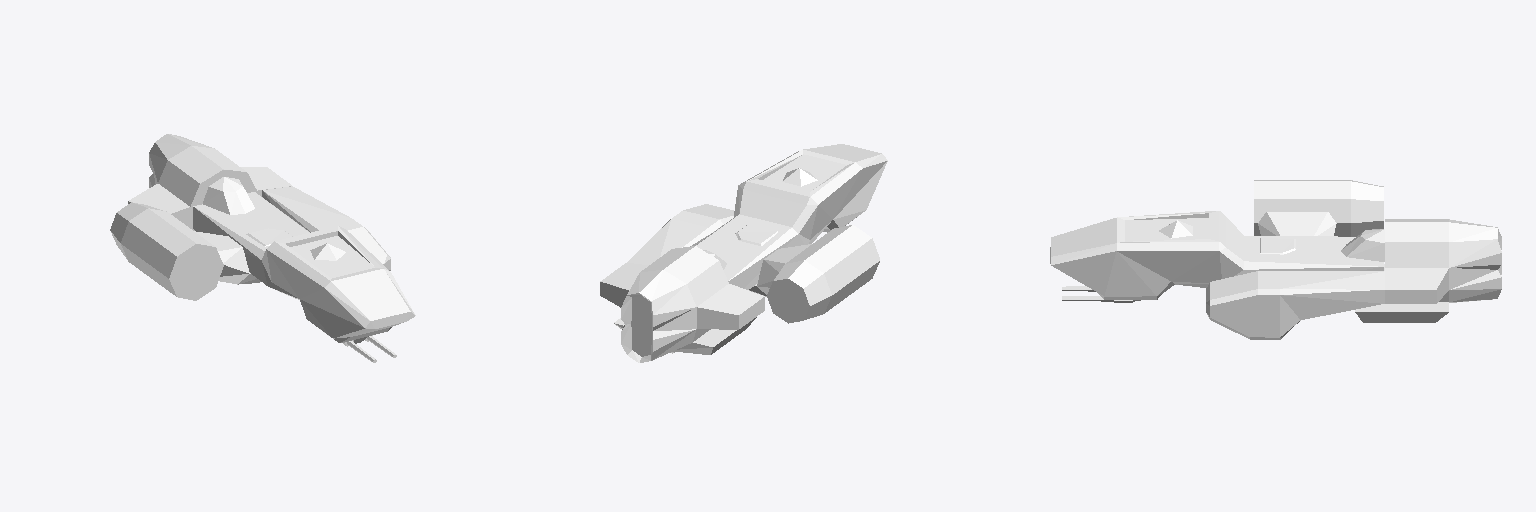
Rendered from bom30.obj.
3 renders of one model, left to right at view 1: azimuth 30°, elevation 25°; view 2: azimuth 150°, elevation 25°; view 3: azimuth 270°, elevation 25°, orthographic.
Visible parts, largest first — view 1: frm-cube2_1_1, frm-cyl9, frm-cyl4_1, frm-cube2_1, frm-cube10, frm-cyl3_1; view 2: frm-cube2_1_1, frm-cyl4_1, frm-cyl9, frm-cube2_1, frm-cube10, frm-cube22; view 3: frm-cube2_1_1, frm-cyl4_1, frm-cube2_1, frm-cyl9, frm-cube10, frm-cyl3_1, frm-cube22.
Part boxes in pixels (x1,y1,x2,y2): frm-cube2_1_1: (193, 192, 415, 342); frm-cyl9: (110, 202, 223, 300); frm-cyl4_1: (128, 134, 291, 230); frm-cube2_1: (262, 186, 390, 270); frm-cube10: (194, 231, 260, 284); frm-cyl3_1: (203, 177, 254, 214); frm-cube2_1_1: (696, 144, 887, 289); frm-cyl4_1: (600, 246, 764, 362); frm-cyl9: (767, 225, 879, 323); frm-cube2_1: (627, 204, 733, 264); frm-cube10: (749, 244, 811, 296); frm-cube22: (735, 224, 777, 245); frm-cube2_1_1: (1050, 211, 1383, 299); frm-cyl4_1: (1355, 219, 1501, 322); frm-cube2_1: (1206, 271, 1384, 339); frm-cyl9: (1254, 180, 1383, 236); frm-cube10: (1258, 212, 1336, 235); frm-cyl3_1: (1341, 229, 1384, 261); frm-cube22: (1260, 238, 1295, 254).
Bounding box in the file's own units: 3.74 × 1.7 × 7.36.